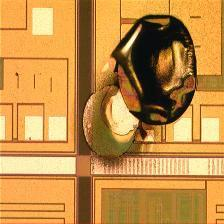PO CONTAMINATION: (77, 11, 202, 172)
